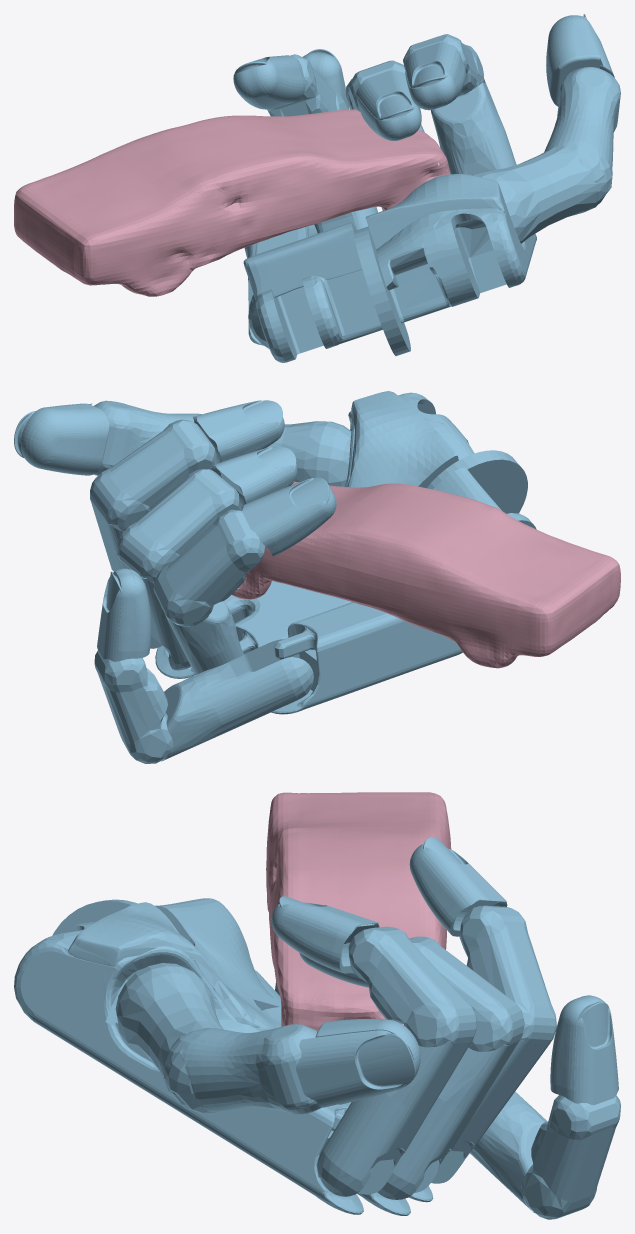
3 renders of one model, top to bottom at view 1: azimuth 30°, elevation 25°; view 2: azimuth 150°, elevation 25°; view 3: azimuth 270°, elevation 25°, orthographic. The views are drawn at different scales.
Visible parts, largest first — view 1: hand, world; view 2: hand, world; view 3: hand, world.
Part boxes in pixels (x1,y1,x2,y2): hand: [233, 14, 620, 362]; world: [14, 109, 450, 296]; hand: [14, 391, 536, 763]; world: [231, 481, 620, 668]; hand: [14, 837, 620, 1219]; world: [266, 792, 451, 1031].
Bounding box in the file's own units: 0.1923 × 0.0903 × 0.1585.
